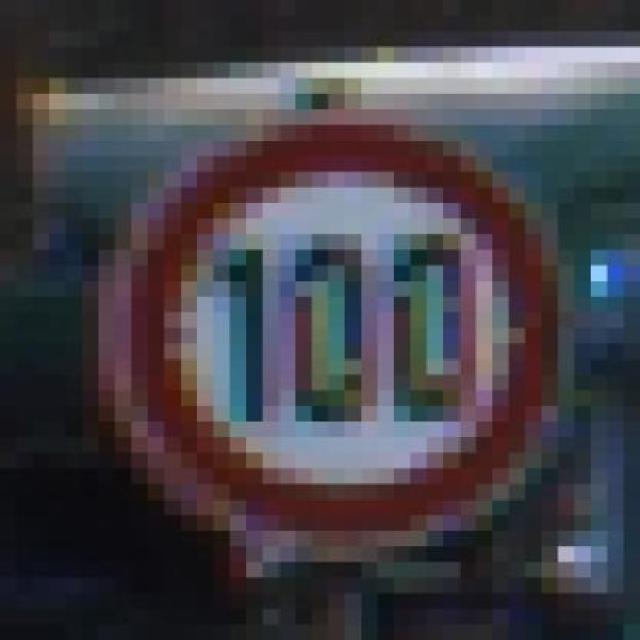forb_speed_over_100: (107, 123, 565, 548)
